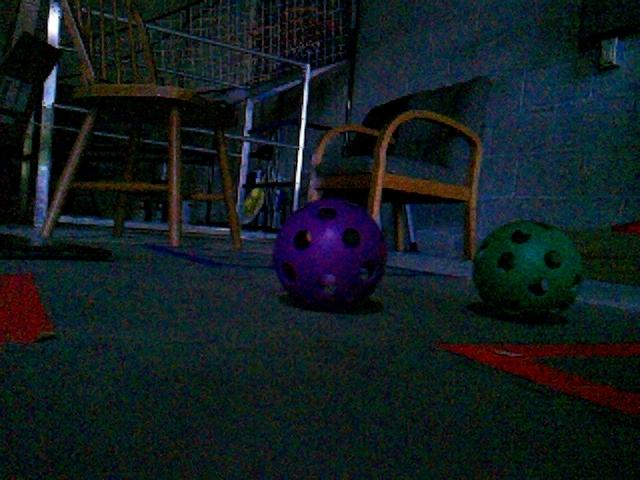Green: (470, 219, 584, 317)
Purple: (271, 199, 387, 309)
